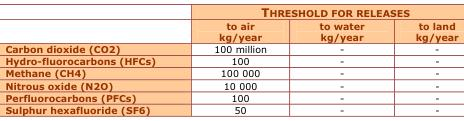table: (4, 3, 457, 114)
table column: (4, 3, 184, 114), (184, 3, 292, 114), (292, 3, 389, 114), (389, 3, 457, 114)
table column header: (4, 3, 457, 42)
table row: (4, 18, 457, 42), (4, 3, 457, 18), (4, 90, 457, 103), (4, 42, 457, 54), (4, 54, 457, 66), (4, 66, 457, 78), (4, 78, 457, 90), (4, 103, 457, 114)
table spanning cell: (184, 3, 457, 18)
